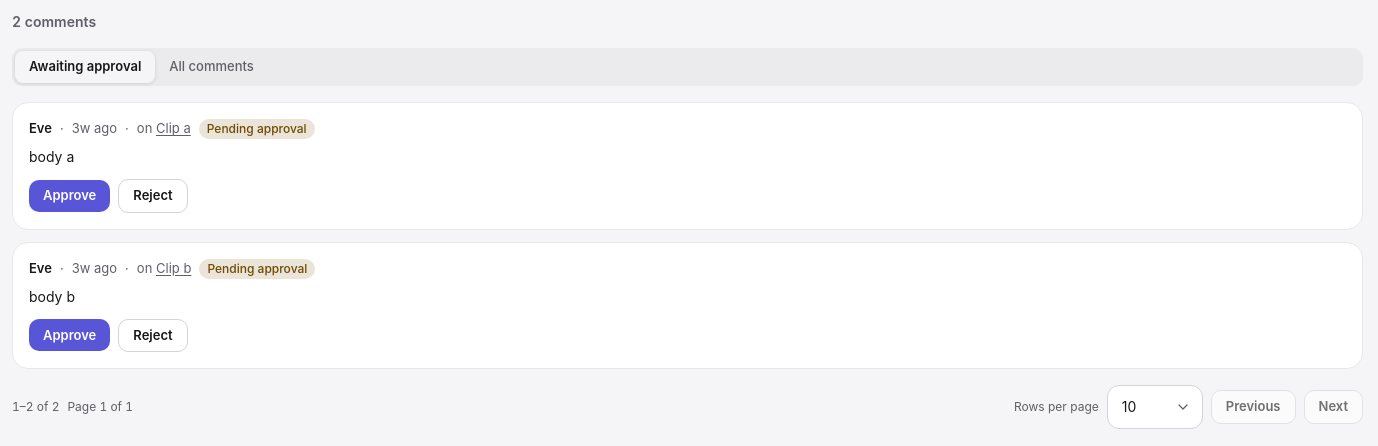
Test case: CommentsQueueView › approves a held comment and drops it from the queue
Check: the text "body a" is shown, box [29,148,74,165]
Step 1. Click the button "Approve" below "body a" → (70, 196), box [29,180,110,212]
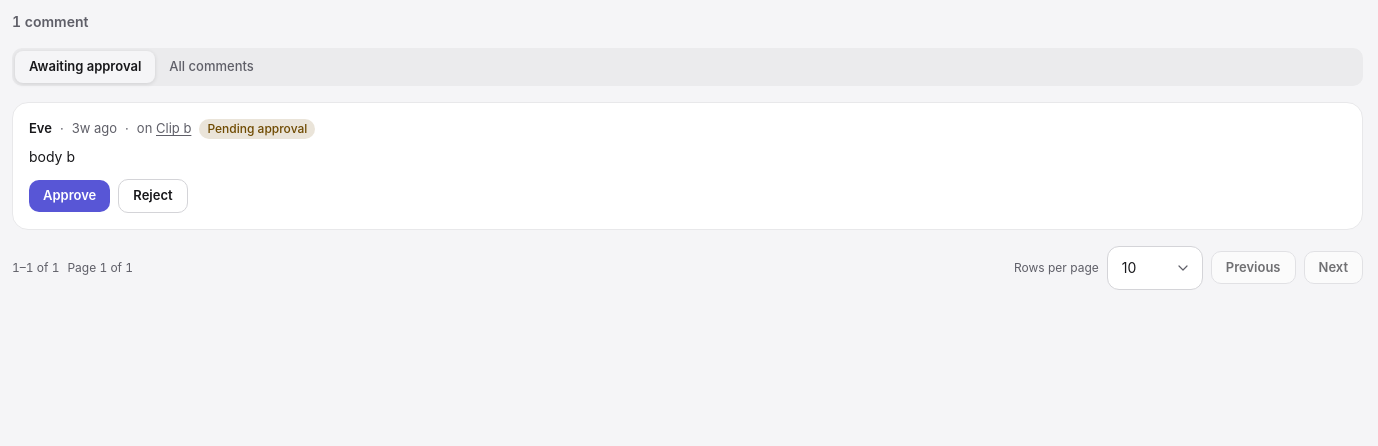
Check: the text "body b" is shown, box [29,148,75,165]
Check: the text "body a" is gone
